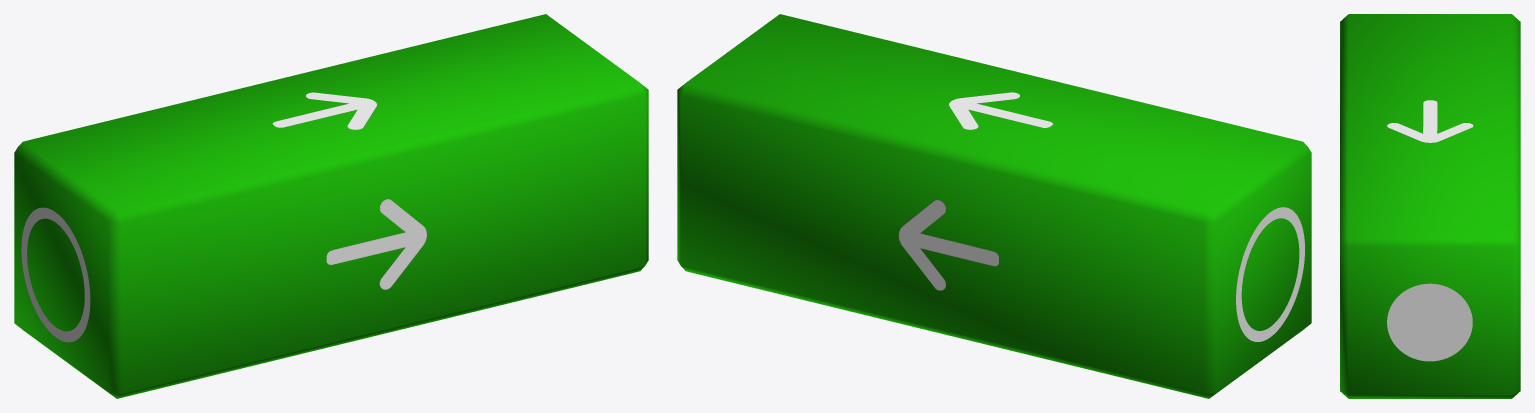
File: BigBoxTapFlowBox_1_1_3__Clean_test2.fbx
3 renders of one model, left to right at view 1: azimuth 30°, elevation 25°; view 2: azimuth 150°, elevation 25°; view 3: azimuth 270°, elevation 25°, orthographic. The views are drawn at different scales.
Visible parts, largest first — view 1: BigBoxTapFlowBox_1_1_3__Clean_test; view 2: BigBoxTapFlowBox_1_1_3__Clean_test; view 3: BigBoxTapFlowBox_1_1_3__Clean_test.
Boxes of the visible parts, box(x1,y1,x2,y2) form: BigBoxTapFlowBox_1_1_3__Clean_test: box(14, 14, 648, 398); BigBoxTapFlowBox_1_1_3__Clean_test: box(677, 14, 1311, 398); BigBoxTapFlowBox_1_1_3__Clean_test: box(1340, 14, 1520, 398).
Bounding box in the file's own units: 3.19 × 1.05 × 1.05.
Materials: 1 (1 with a texture image).
